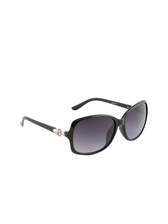glasses: (18, 87, 150, 150)
